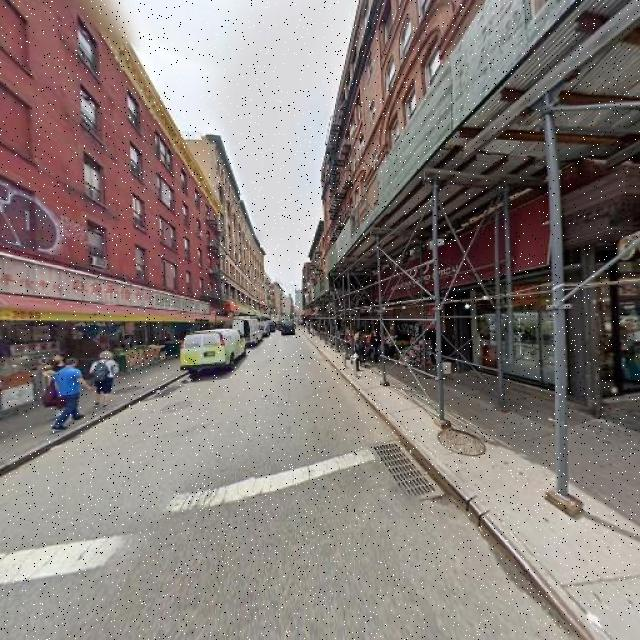Building: (325, 1, 640, 405), (1, 1, 222, 407)
